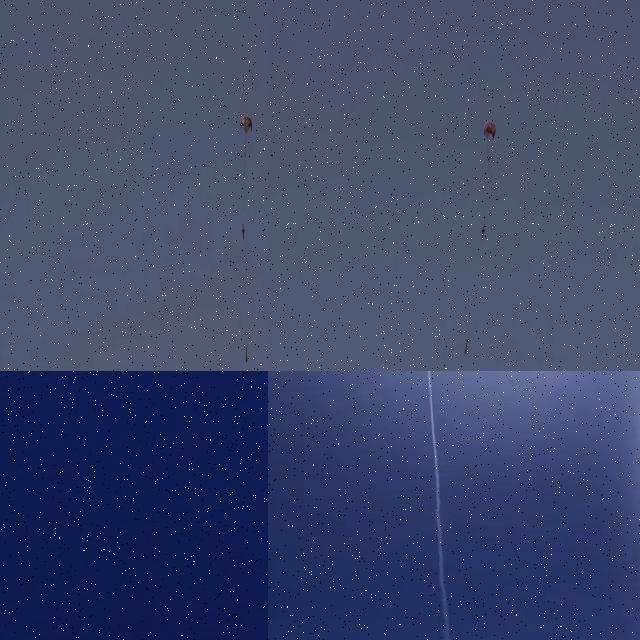Rocket: (464, 338, 468, 354), (245, 346, 248, 363)
